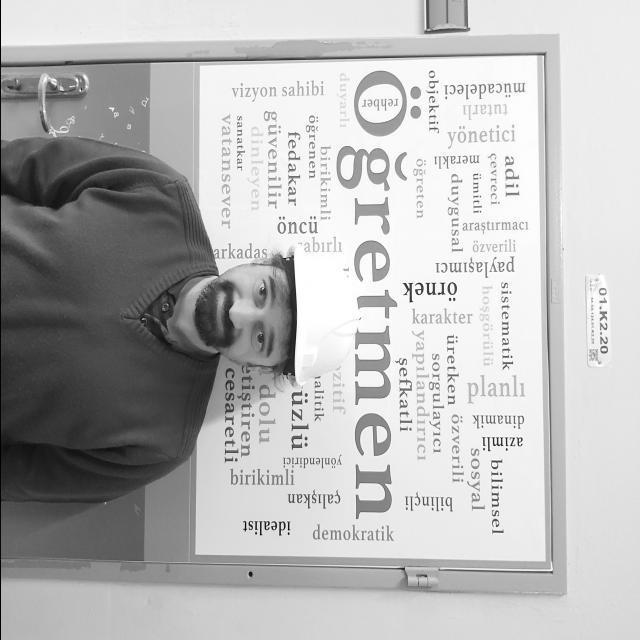safety_helmet: (285, 249, 358, 383)
